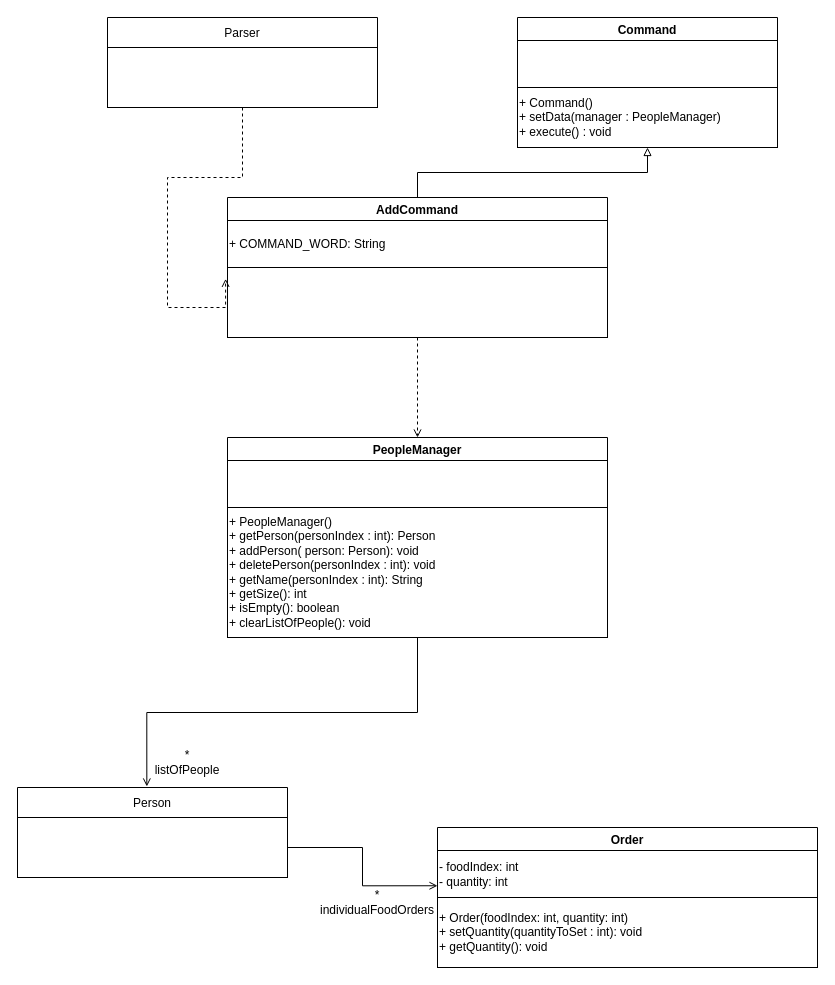
Some shapes in this 835 by 985 pixel diagram are drawn without their labels. The shapes that lost their labels are listed below. From the top down, each one's centre as x and y in pixels, then its label:
pixel 242 77: + getCommand(input : String): Command
pixel 647 64: # peopleManager: PeopleManager
pixel 417 302: + execute(): void
pixel 417 484: - listOfPeople<> : Person
pixel 152 847: # personName : String
